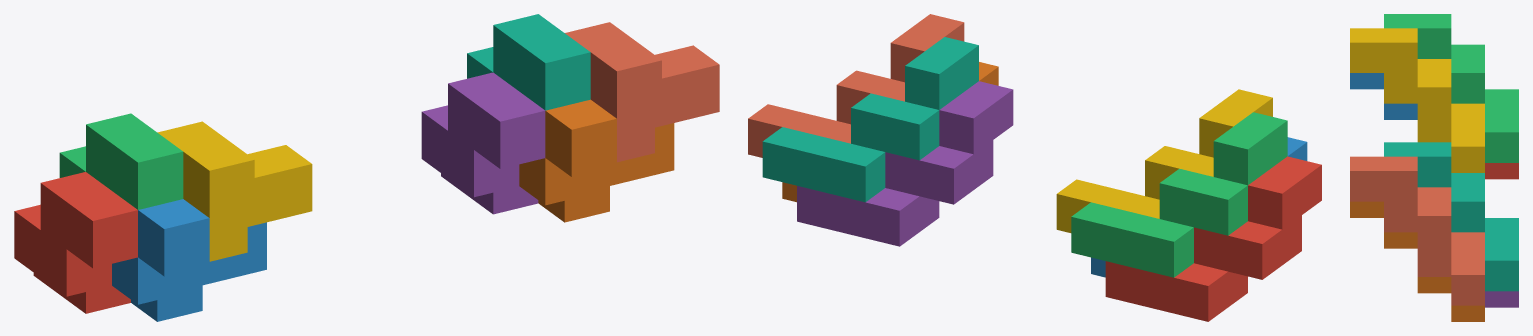
The model's file is tiling.obj.
3 views of the same model, side by side, from view 1: azimuth 30°, elevation 25°; view 2: azimuth 150°, elevation 25°; view 3: azimuth 270°, elevation 25° (orthographic). The views are drawn at different scales.
Visible parts, largest first — view 1: copy_1_domain_5, copy_1_domain_1, copy_1_domain_4, copy_1_domain_8, copy_1_domain_6, copy_1_domain_2, copy_1_domain_3, copy_1_domain_7; view 2: copy_1_domain_3, copy_1_domain_7, copy_1_domain_5, copy_1_domain_1, copy_1_domain_4, copy_1_domain_8, copy_1_domain_2, copy_1_domain_6; view 3: copy_1_domain_8, copy_1_domain_4, copy_1_domain_7, copy_1_domain_3, copy_1_domain_6, copy_1_domain_2, copy_1_domain_1, copy_1_domain_5.
Boxes of the visible parts, <box> form: copy_1_domain_5: <box>421,72,545,214</box>; copy_1_domain_1: <box>14,172,137,313</box>; copy_1_domain_4: <box>157,121,312,261</box>; copy_1_domain_8: <box>565,22,719,162</box>; copy_1_domain_6: <box>519,99,674,222</box>; copy_1_domain_2: <box>112,199,266,321</box>; copy_1_domain_3: <box>59,113,183,209</box>; copy_1_domain_7: <box>467,14,590,110</box>; copy_1_domain_3: <box>1071,112,1287,277</box>; copy_1_domain_7: <box>762,37,978,202</box>; copy_1_domain_5: <box>797,81,1013,246</box>; copy_1_domain_1: <box>1105,156,1321,321</box>; copy_1_domain_4: <box>1056,89,1272,232</box>; copy_1_domain_8: <box>748,14,964,157</box>; copy_1_domain_2: <box>1091,137,1307,277</box>; copy_1_domain_6: <box>782,62,998,202</box>; copy_1_domain_8: <box>1350,156,1484,305</box>; copy_1_domain_4: <box>1350,28,1484,172</box>; copy_1_domain_7: <box>1384,142,1518,291</box>; copy_1_domain_3: <box>1384,14,1518,162</box>; copy_1_domain_6: <box>1350,201,1484,321</box>; copy_1_domain_2: <box>1350,73,1417,119</box>; copy_1_domain_1: <box>1485,163,1518,179</box>; copy_1_domain_5: <box>1485,291,1518,307</box>.
Bounding box in the file's own units: 15 × 4 × 5.
